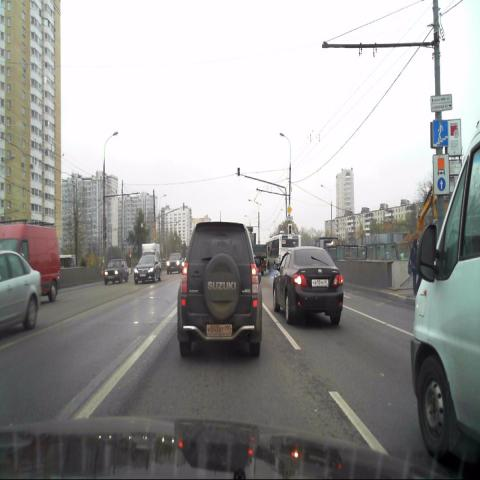4_8_2: (433, 153, 450, 195)
